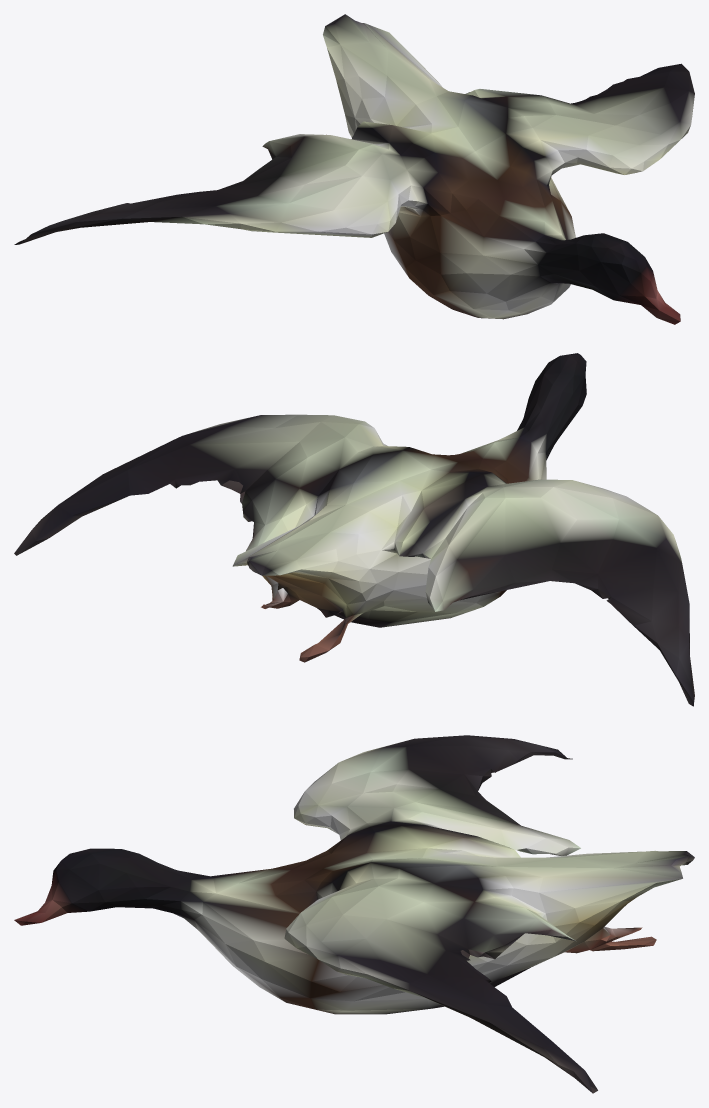
File: Bird_Whole.fbx
3 views of the same model, one above another, from view 1: azimuth 30°, elevation 25°; view 2: azimuth 150°, elevation 25°; view 3: azimuth 270°, elevation 25° (orthographic).
Parts seen in each view (by area): view 1: default.002_lowpoly; view 2: default.002_lowpoly; view 3: default.002_lowpoly.
Boxes of the visible parts, x1,y1,x2,y2 form: default.002_lowpoly: (14, 14, 694, 324); default.002_lowpoly: (14, 353, 694, 706); default.002_lowpoly: (14, 735, 694, 1093).
Bounding box in the file's own units: 170 × 38.66 × 148.
